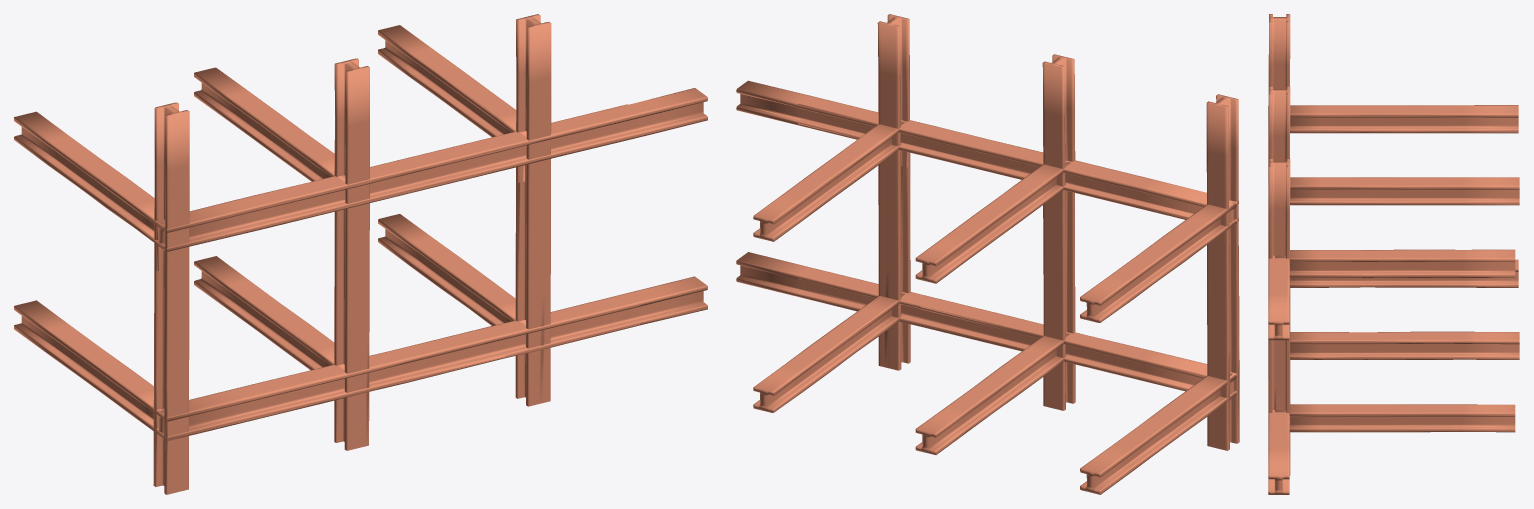
File: Industrial_New_Mid_1.fbx
3 renders of one model, left to right at view 1: azimuth 30°, elevation 25°; view 2: azimuth 150°, elevation 25°; view 3: azimuth 270°, elevation 25°, orthographic. The views are drawn at different scales.
Parts seen in each view (by area): view 1: NurbsPath.018; view 2: NurbsPath.018; view 3: NurbsPath.018.
Part boxes in pixels (bbox=[...]): NurbsPath.018: bbox=[14, 14, 707, 494]; NurbsPath.018: bbox=[736, 14, 1239, 494]; NurbsPath.018: bbox=[1268, 14, 1519, 494].
Size of the model in its own units: 600 by 400 by 295.
